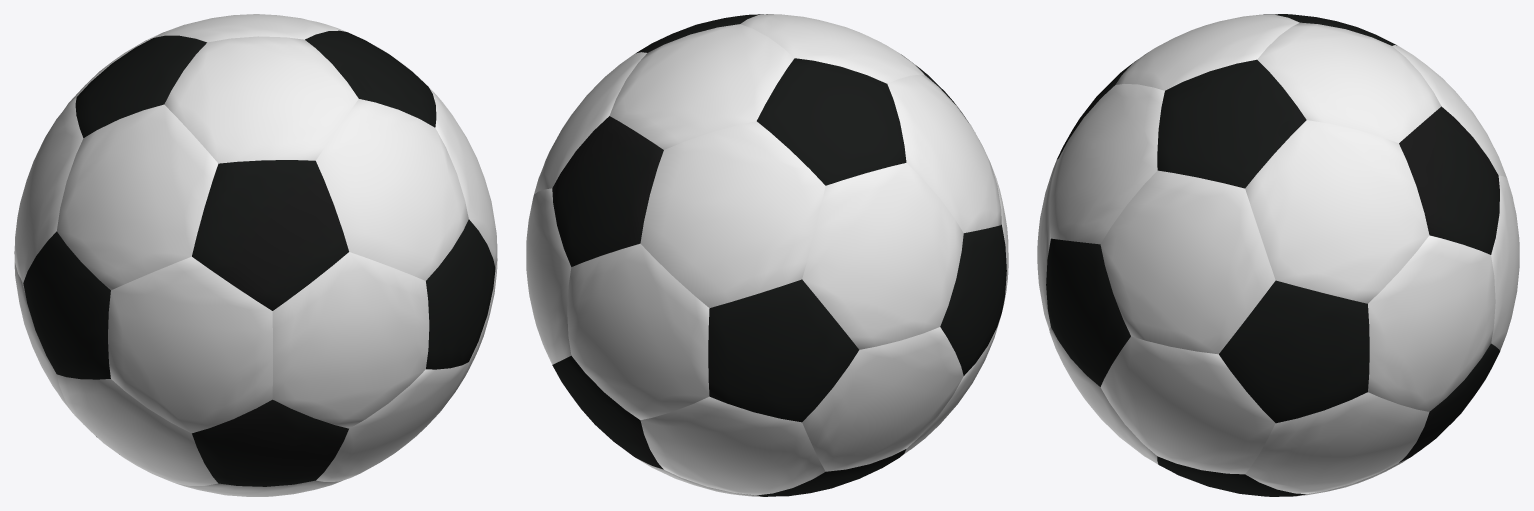
File: DM_soccer_ball.fbx
The picture shows the model from 3 angles, left to right: view 1: azimuth 30°, elevation 25°; view 2: azimuth 150°, elevation 25°; view 3: azimuth 270°, elevation 25°; orthographic projection.
Parts seen in each view (by area): view 1: DM_soccer_ball; view 2: DM_soccer_ball; view 3: DM_soccer_ball.
Boxes of the visible parts, left/top/right/bottom form: DM_soccer_ball: left=14, top=14, right=497, bottom=496; DM_soccer_ball: left=526, top=14, right=1008, bottom=496; DM_soccer_ball: left=1037, top=14, right=1519, bottom=496.
Bounding box in the file's own units: 0.2201 × 0.2202 × 0.2199.
